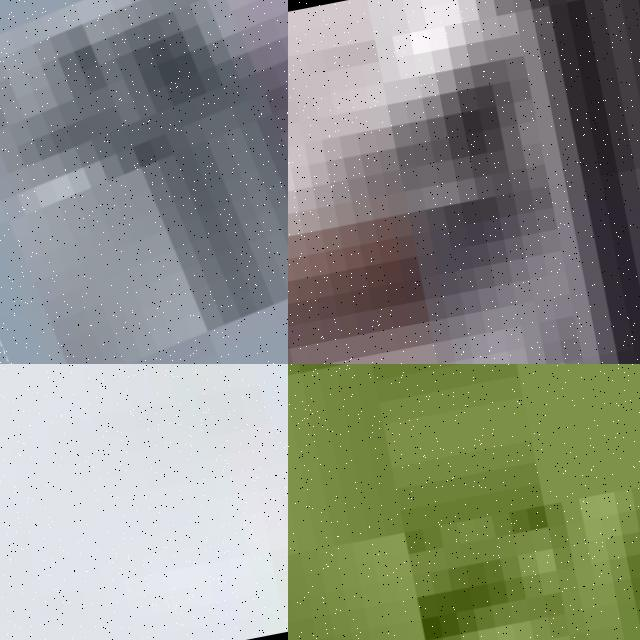drone: (0, 0, 288, 364)
